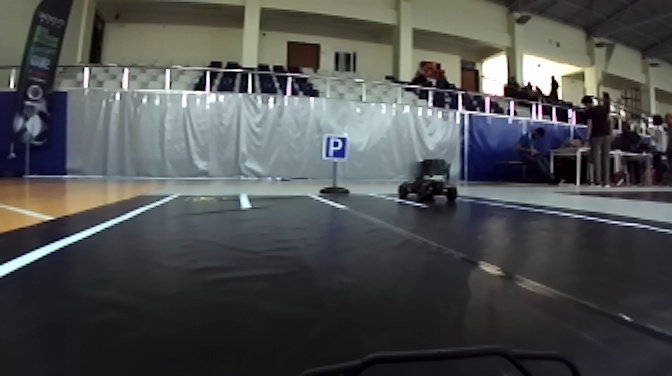park: (321, 131, 351, 163)
